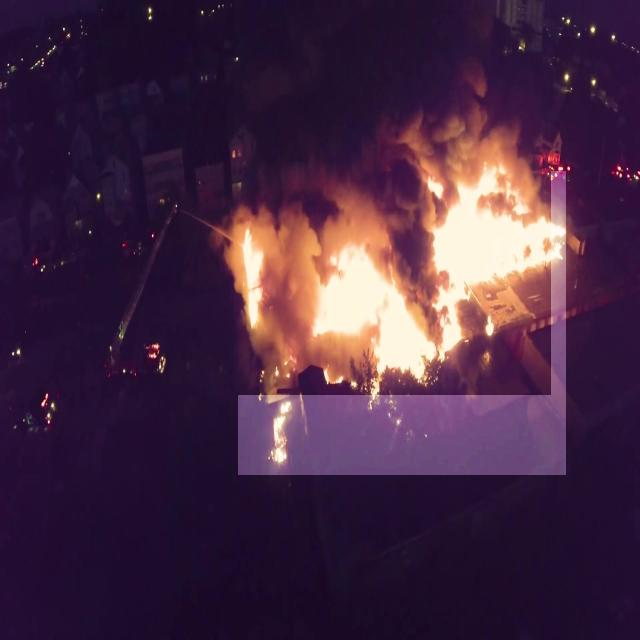Fire: (238, 171, 566, 475)
Smoke: (234, 0, 551, 395)
